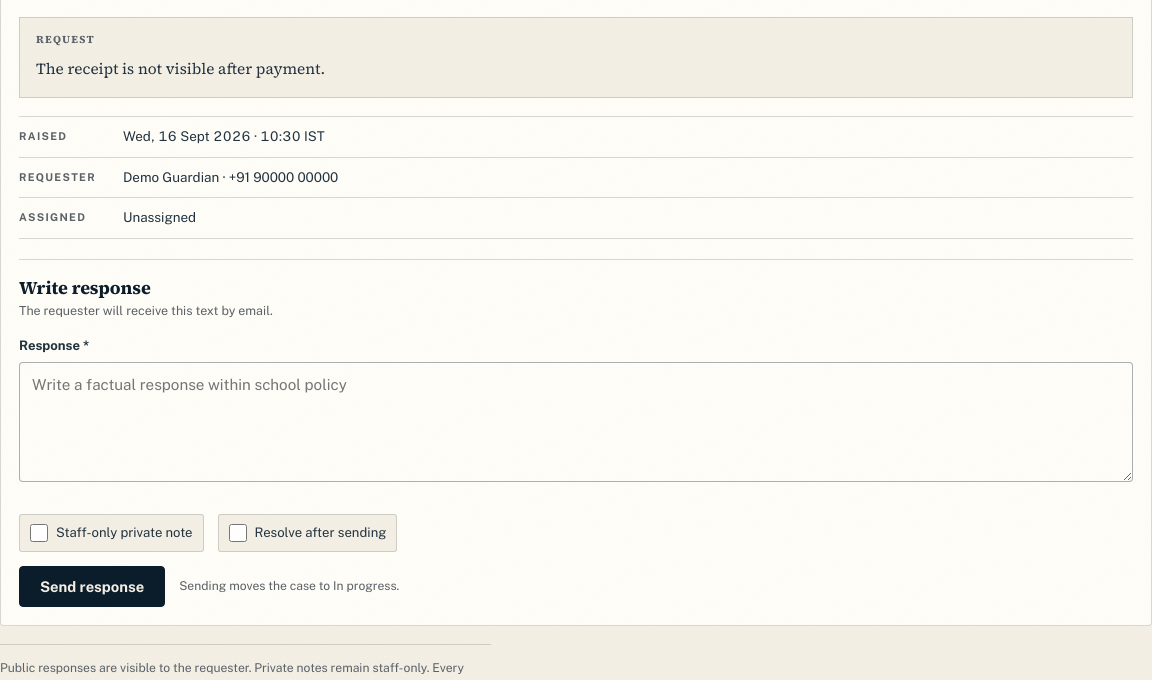
GrievanceInbox › explains why private notes cannot resolve a request
The image size is (1152, 680).
(page scrolled)
Click the checkbox labelled "Staff-only private note" at (39, 532), box [30, 524, 48, 542]
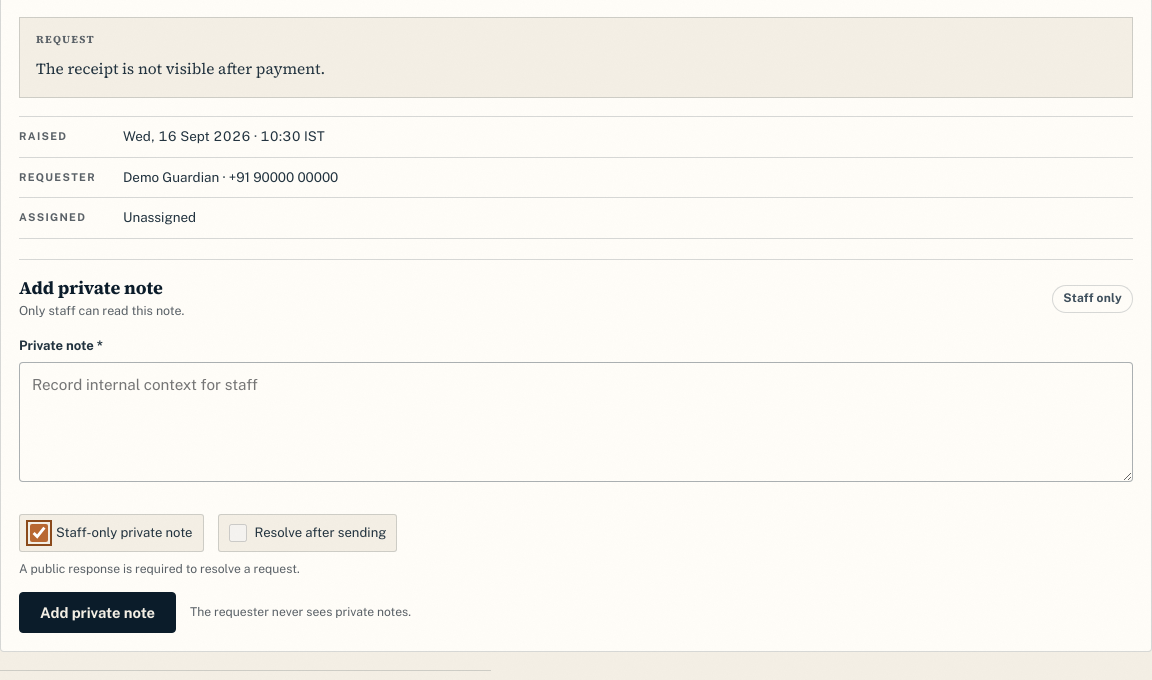
Now the button "Add private note" is shown, box [19, 592, 176, 634]
Now the checkbox labelled "Resolve after sending" is disabled, box [228, 524, 246, 542]
Now the text "A public response is required to resolve a request." is shown, box [19, 560, 300, 576]
